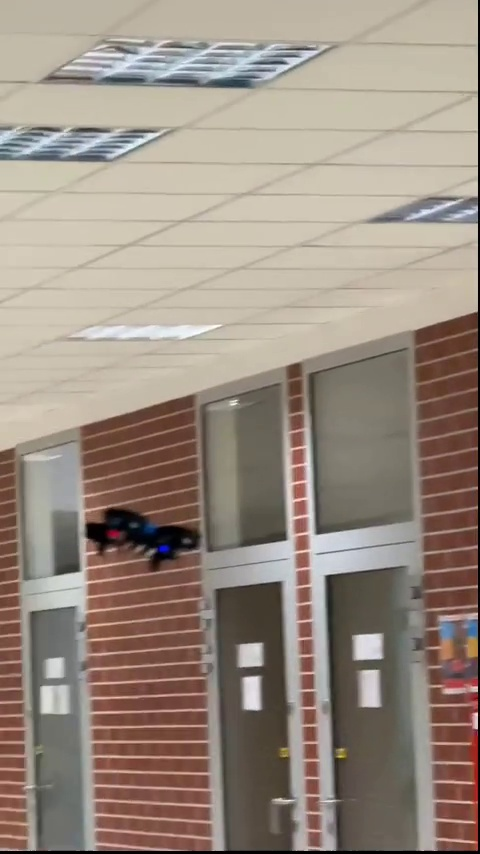drone: (79, 502, 204, 569)
